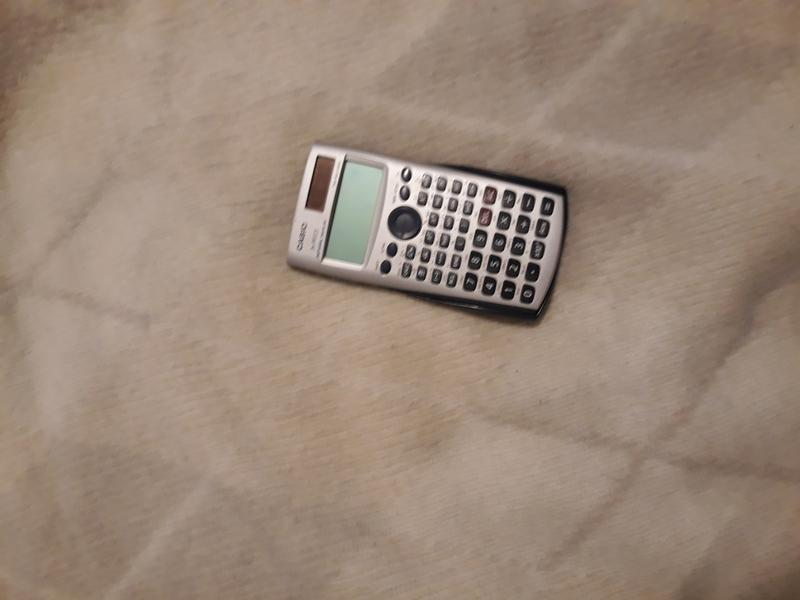CASIO_fx_991ES: (284, 124, 582, 318)
